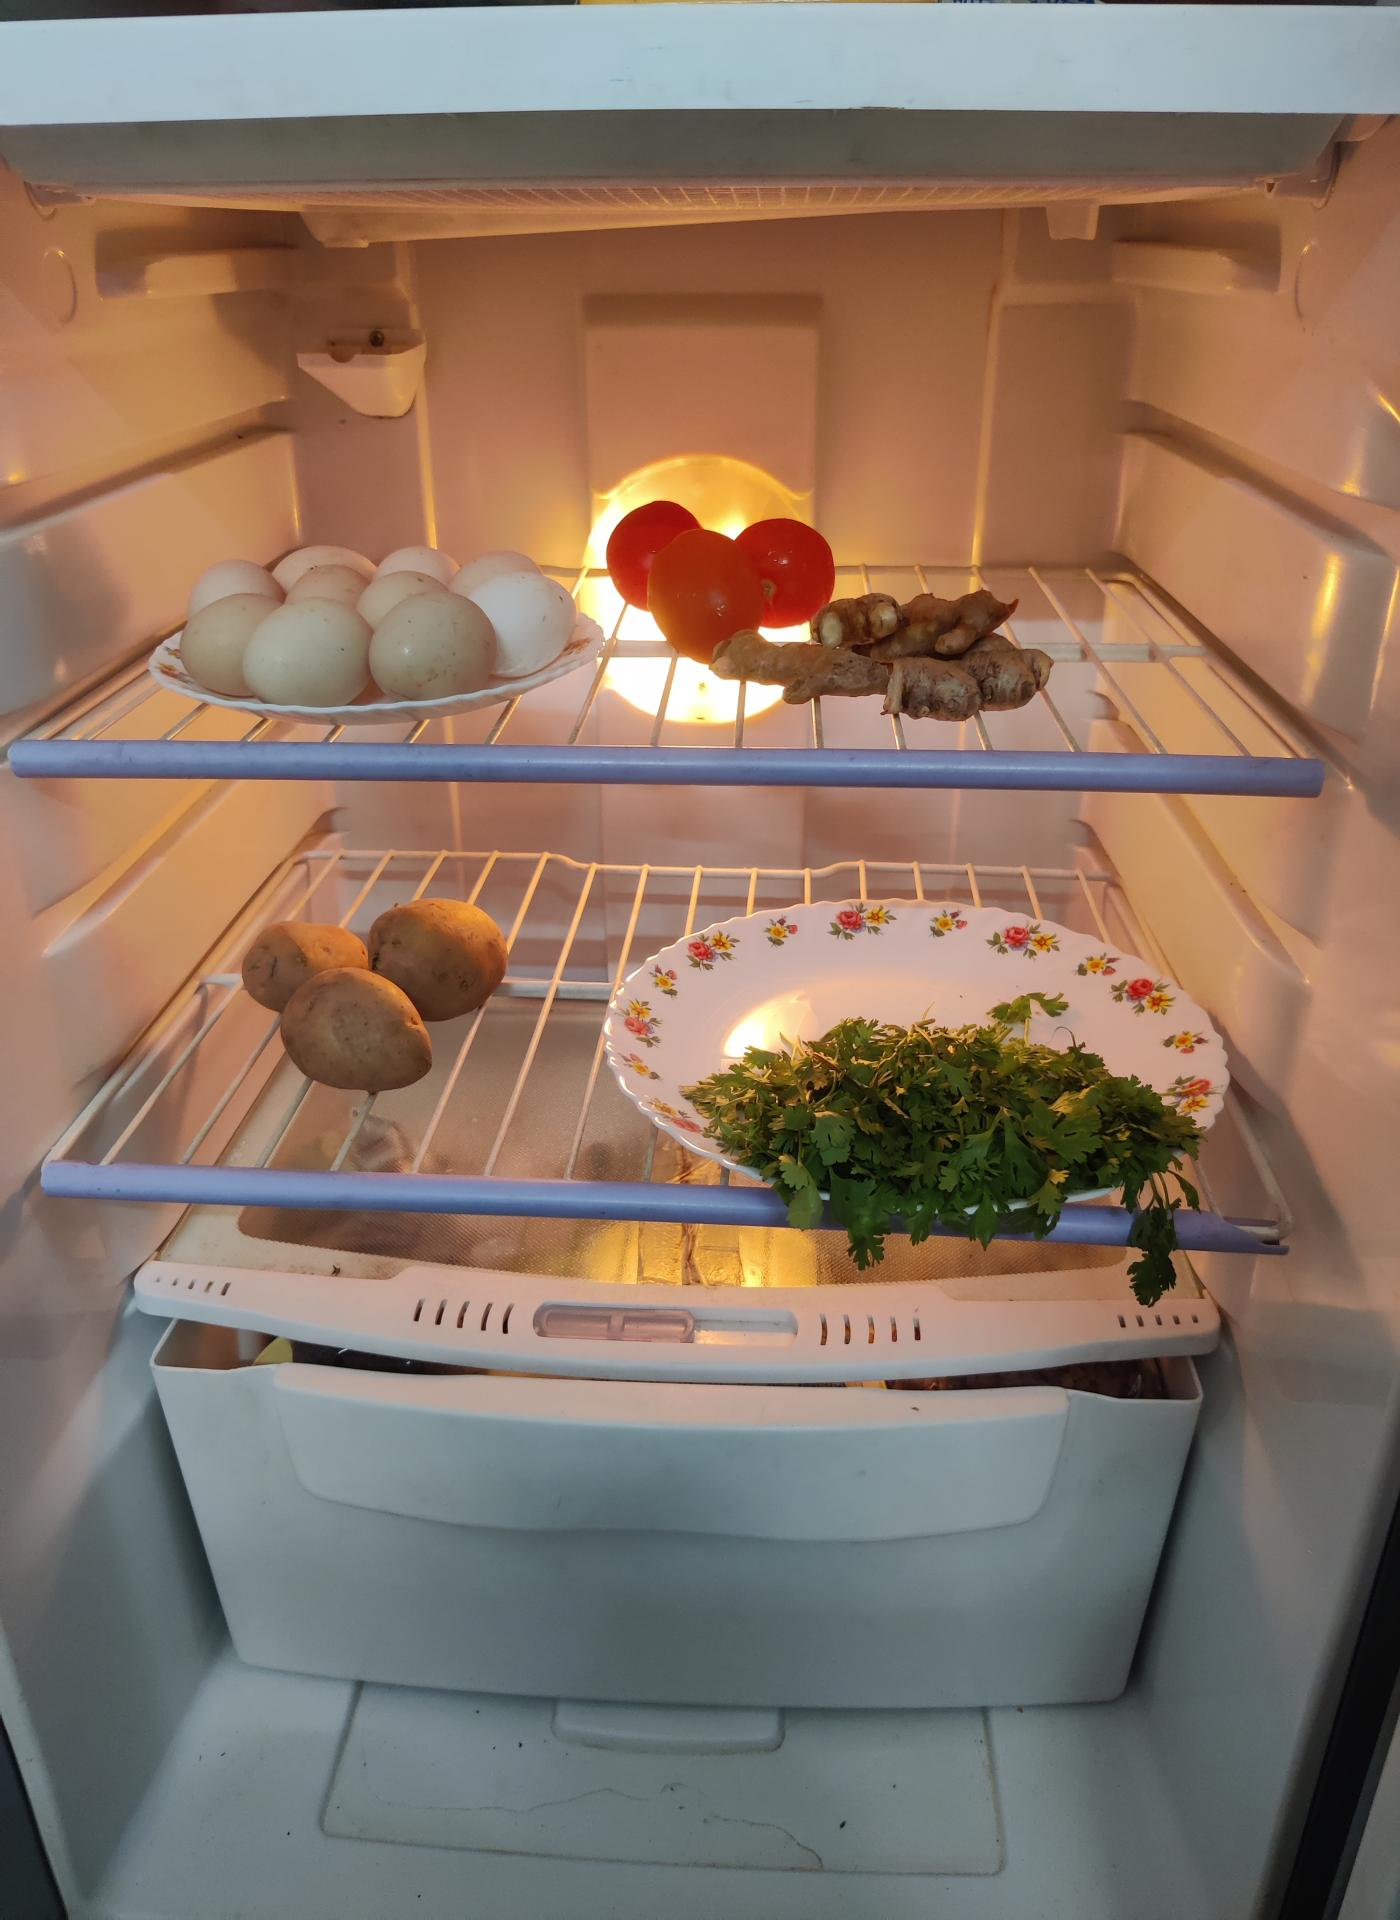coriander: (686, 1017, 1193, 1237)
egg: (185, 523, 586, 692)
ginger: (813, 583, 1045, 717)
potato: (245, 915, 516, 1099)
tomato: (602, 505, 835, 665)
